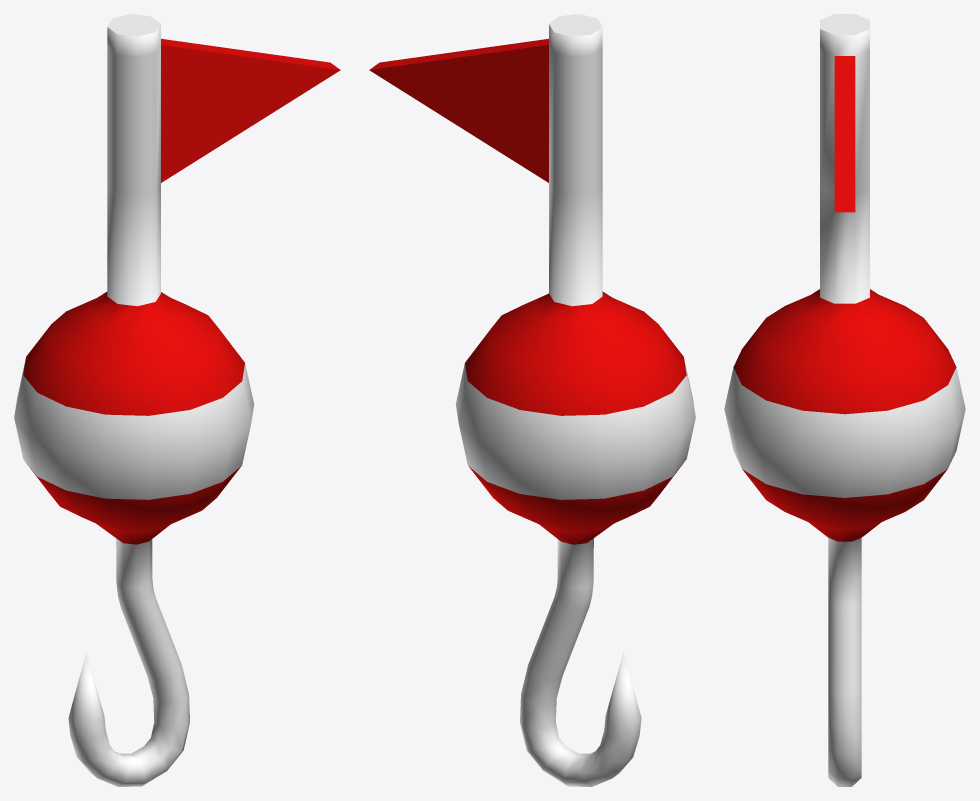
File: Hook.fbx
3 views of the same model, side by side, from view 1: azimuth 30°, elevation 25°; view 2: azimuth 150°, elevation 25°; view 3: azimuth 270°, elevation 25° (orthographic).
Visible parts, largest first — view 1: NurbsPath; view 2: NurbsPath; view 3: NurbsPath.
Part boxes in pixels (box(x1,y1,x2,y2)): NurbsPath: box(14, 14, 340, 786); NurbsPath: box(369, 14, 695, 786); NurbsPath: box(724, 14, 965, 786).
Bounding box in the file's own units: 292 × 692 × 200.
